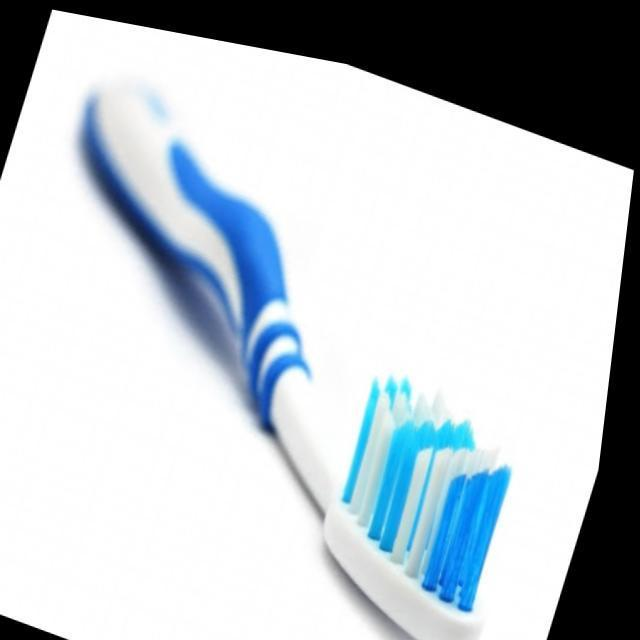toothbrush: (86, 72, 515, 639)
